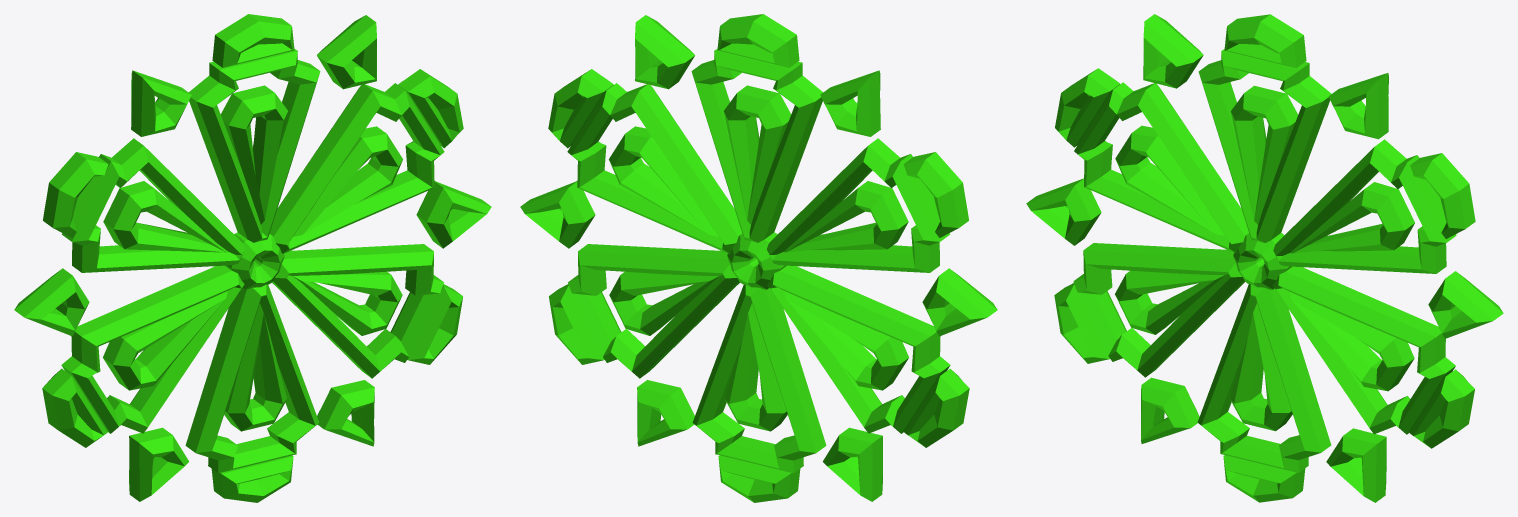
The model's file is pinhaoN.glb.
3 renders of one model, left to right at view 1: azimuth 30°, elevation 25°; view 2: azimuth 150°, elevation 25°; view 3: azimuth 330°, elevation 25°, orthographic.
Visible parts, largest first — view 1: root.001; view 2: root.001; view 3: root.001.
Part boxes in pixels (x1,y1,x2,y2): root.001: (14,14,491,502); root.001: (520,14,997,502); root.001: (1026,14,1503,502).
Size of the model in its own units: 6.4 by 6.3 by 0.54.
